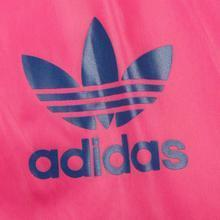Adidas_Originals: (16, 14, 196, 180)
